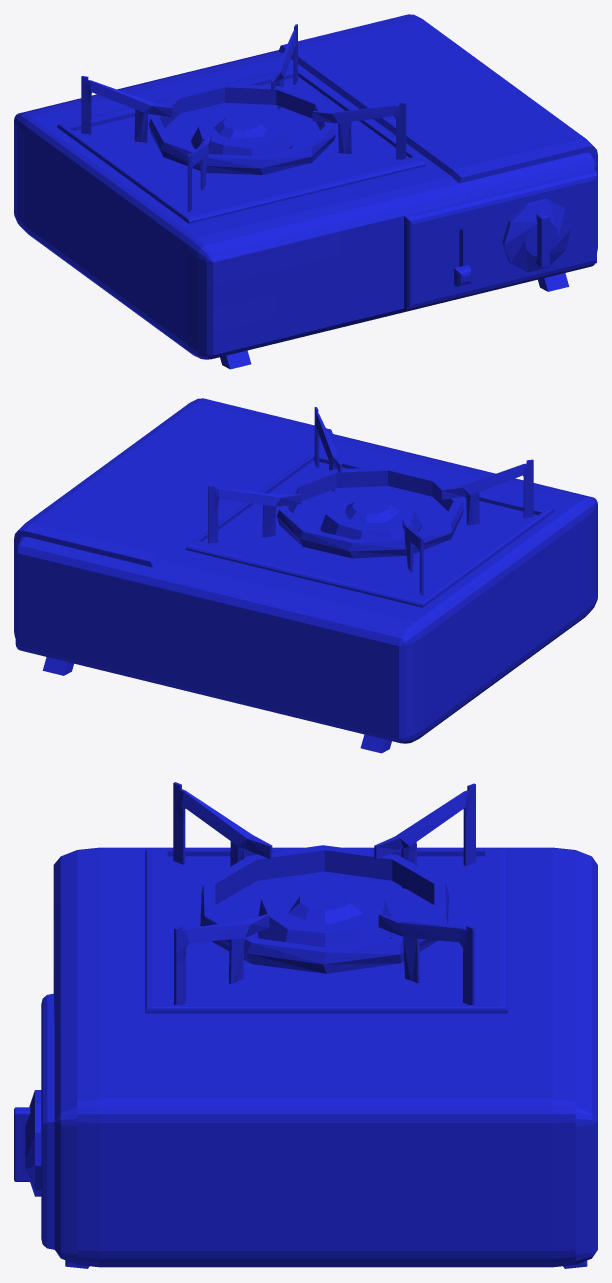
The model's file is furnace.obj.
3 renders of one model, top to bottom at view 1: azimuth 30°, elevation 25°; view 2: azimuth 150°, elevation 25°; view 3: azimuth 270°, elevation 25°, orthographic. The views are drawn at different scales.
Parts seen in each view (by area): view 1: ChamferBox001_ChamferBox001, Cylinder003_Cylinder003, Box001_Box001, Cylinder002_Cylinder002, Cylinder001_Cylinder001, ChamferBox002_ChamferBox002; view 2: ChamferBox001_ChamferBox001, Cylinder003_Cylinder003, Box001_Box001, Cylinder002_Cylinder002; view 3: ChamferBox001_ChamferBox001, Cylinder003_Cylinder003, Box001_Box001, Cylinder002_Cylinder002, Cylinder001_Cylinder001, ChamferBox002_ChamferBox002.
Boxes of the visible parts, x1,y1,x2,y2 form: ChamferBox001_ChamferBox001: (14,14,597,369); Cylinder003_Cylinder003: (149,84,335,174); Box001_Box001: (81,24,406,211); Cylinder002_Cylinder002: (191,110,292,156); Cylinder001_Cylinder001: (502,198,571,272); ChamferBox002_ChamferBox002: (535,212,550,268); ChamferBox001_ChamferBox001: (14,398,597,753); Cylinder003_Cylinder003: (276,466,464,558); Box001_Box001: (208,407,533,595); Cylinder002_Cylinder002: (320,494,421,539); ChamferBox001_ChamferBox001: (41,847,597,1268); Cylinder003_Cylinder003: (200,845,448,973); Box001_Box001: (173,782,475,1004); Cylinder002_Cylinder002: (258,881,392,947); Cylinder001_Cylinder001: (25,1090,41,1196); ChamferBox002_ChamferBox002: (14,1107,30,1181).
Bounding box in the file's own units: 102 × 45.06 × 92.89.
